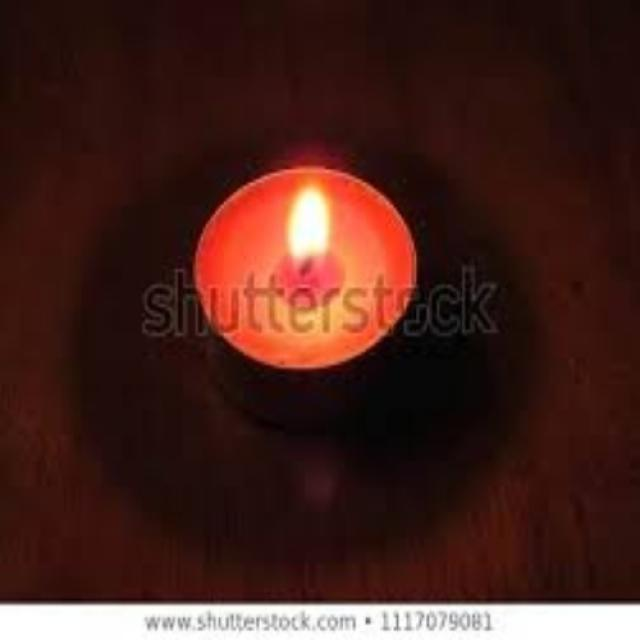Fire: (286, 186, 334, 272)
